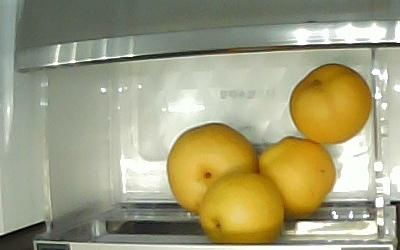pear: (165, 121, 259, 214), (288, 62, 371, 144), (257, 135, 336, 220), (198, 170, 285, 244)
